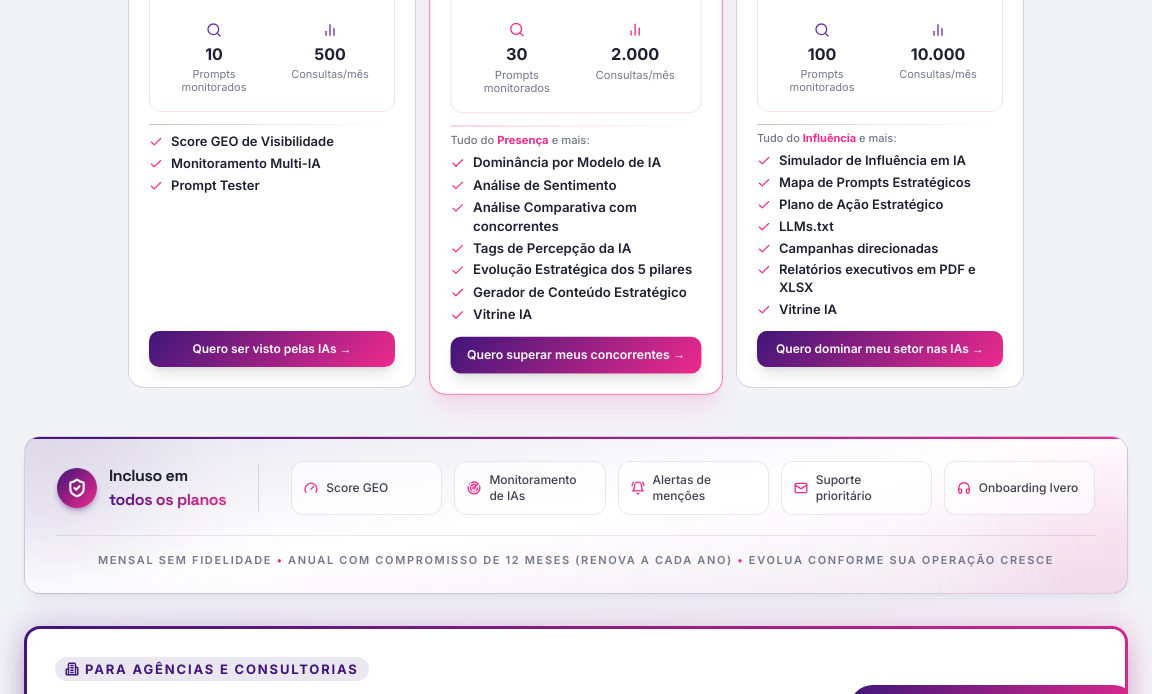
Test: aviso fixo de multa pendente (sem toast) › InvestSection: aviso dentro do modal, modal continua aberto
(page scrolled)
Click the button "Quero ser visto pelas IAs →" at [272, 349], box [149, 331, 395, 367]
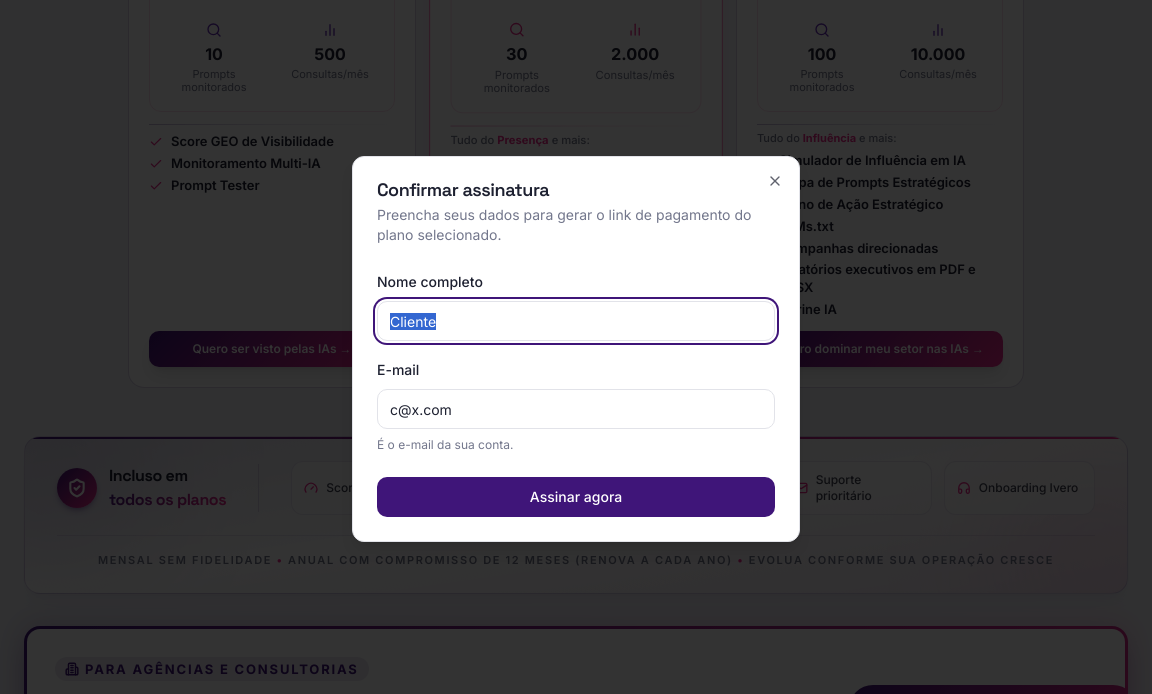
Click the button "Assinar agora" at [576, 497], box [377, 477, 775, 517]
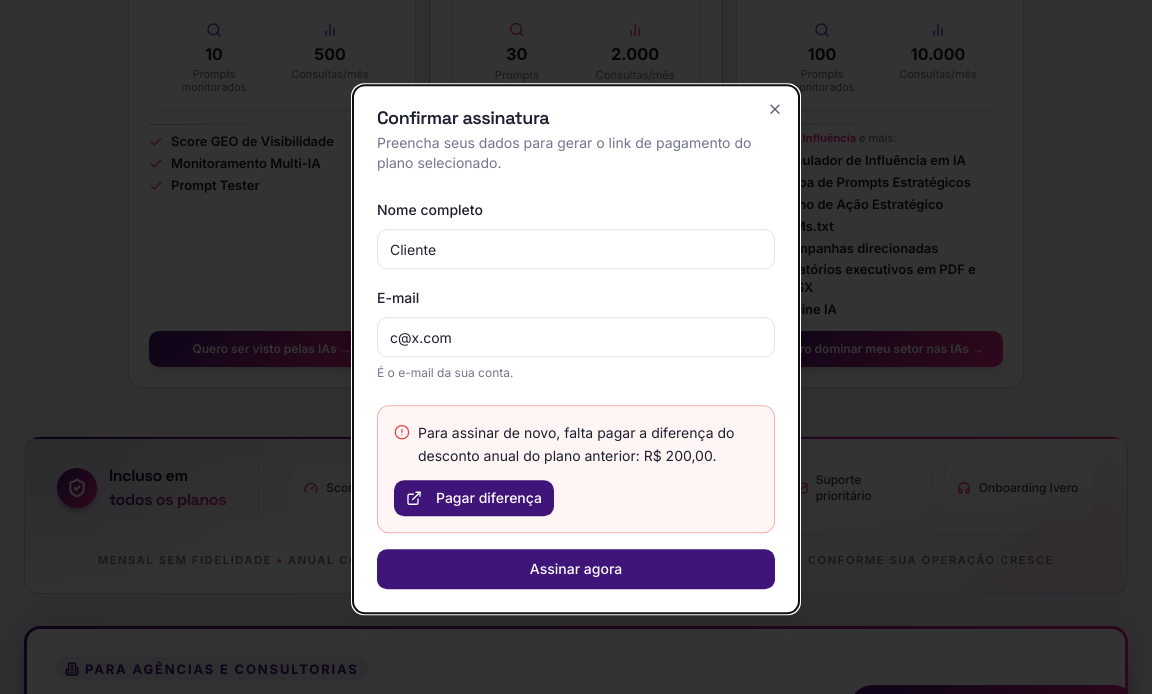
Expected: the heading "Confirmar assinatura" is shown, [377, 106, 549, 129]
Expected: the message with test id "penalty-blocked-notice" shows "falta pagar a diferença do desconto anual do plano anterior: R$ 200,00", [418, 424, 734, 464]
Expected: the button "Pagar diferença" is shown, [394, 480, 554, 516]
